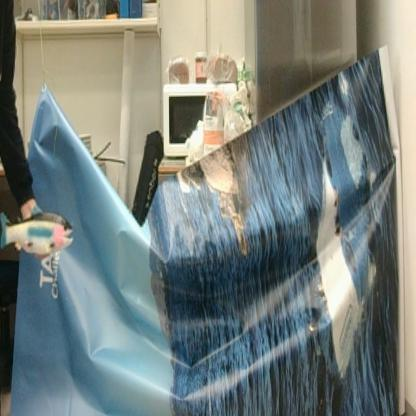rubberfish: (0, 204, 74, 256)
